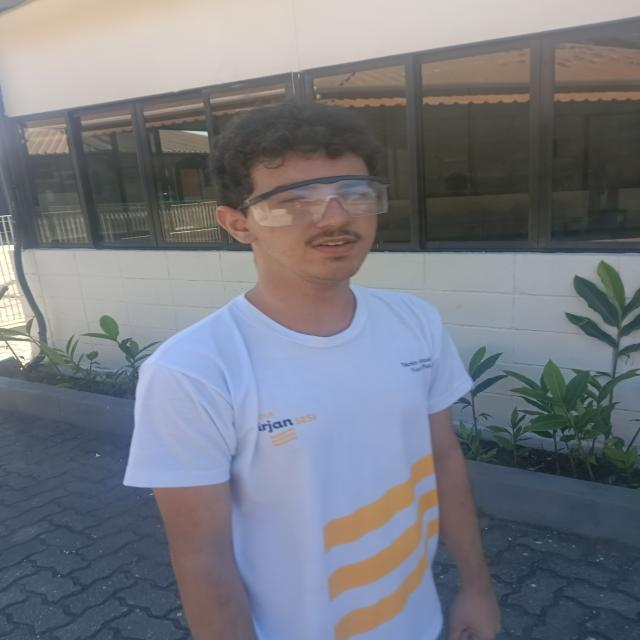oculos-epi: (244, 175, 389, 227)
